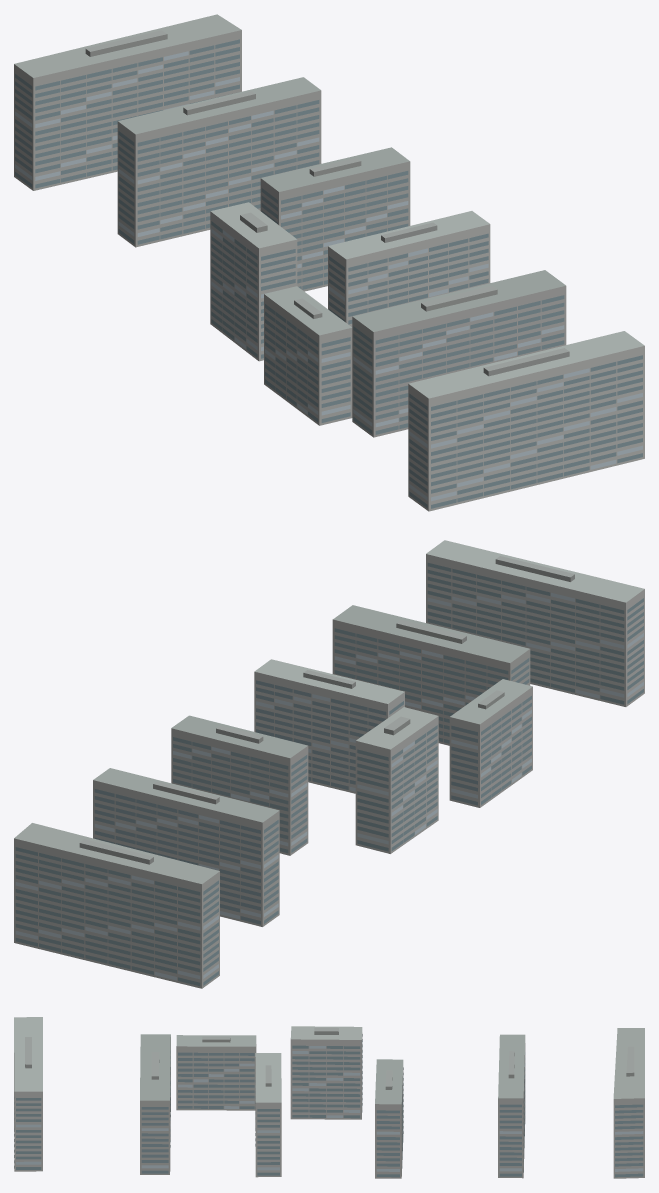
The model's file is apt-a13482505.glb.
3 views of the same model, one above another, from view 1: azimuth 30°, elevation 25°; view 2: azimuth 150°, elevation 25°; view 3: azimuth 270°, elevation 25° (orthographic). The views are drawn at different scales.
Parts seen in each view (by area): view 1: apt-a13482505; view 2: apt-a13482505; view 3: apt-a13482505.
Part boxes in pixels (x1,y1,x2,y2): apt-a13482505: [14, 14, 644, 511]; apt-a13482505: [14, 540, 644, 988]; apt-a13482505: [14, 1017, 644, 1178].
Size of the model in its own units: 101 by 47.81 by 328.
